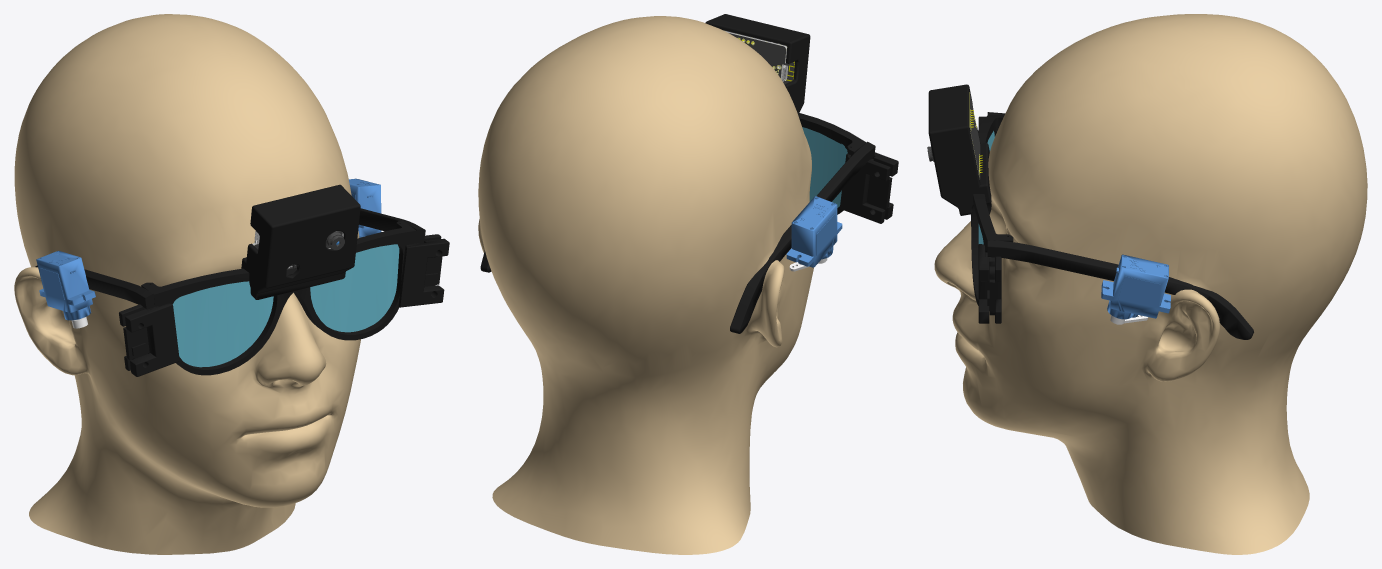
The model's file is vigil.glb.
The picture shows the model from 3 angles, left to right: view 1: azimuth 30°, elevation 25°; view 2: azimuth 150°, elevation 25°; view 3: azimuth 270°, elevation 25°; orthographic projection. The views are drawn at different scales.
Parts seen in each view (by area): view 1: Component1:1; view 2: Component1:1; view 3: Component1:1.
Boxes of the visible parts, x1,y1,x2,y2 form: Component1:1: (14, 14, 449, 554); Component1:1: (478, 14, 898, 554); Component1:1: (927, 14, 1367, 554).
Bounding box in the file's own units: 0.17 × 0.2364 × 0.2013.
1 material, 1 textured.
